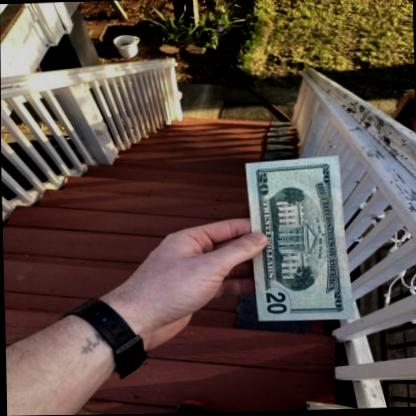twenty-back: (244, 155, 355, 321)
